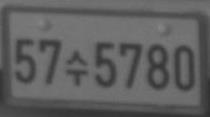0: (173, 45, 196, 91)
5: (93, 41, 117, 87), (13, 38, 36, 82)
7: (118, 41, 144, 88), (38, 38, 61, 84)
8: (147, 43, 169, 89)
수: (63, 49, 89, 86)
